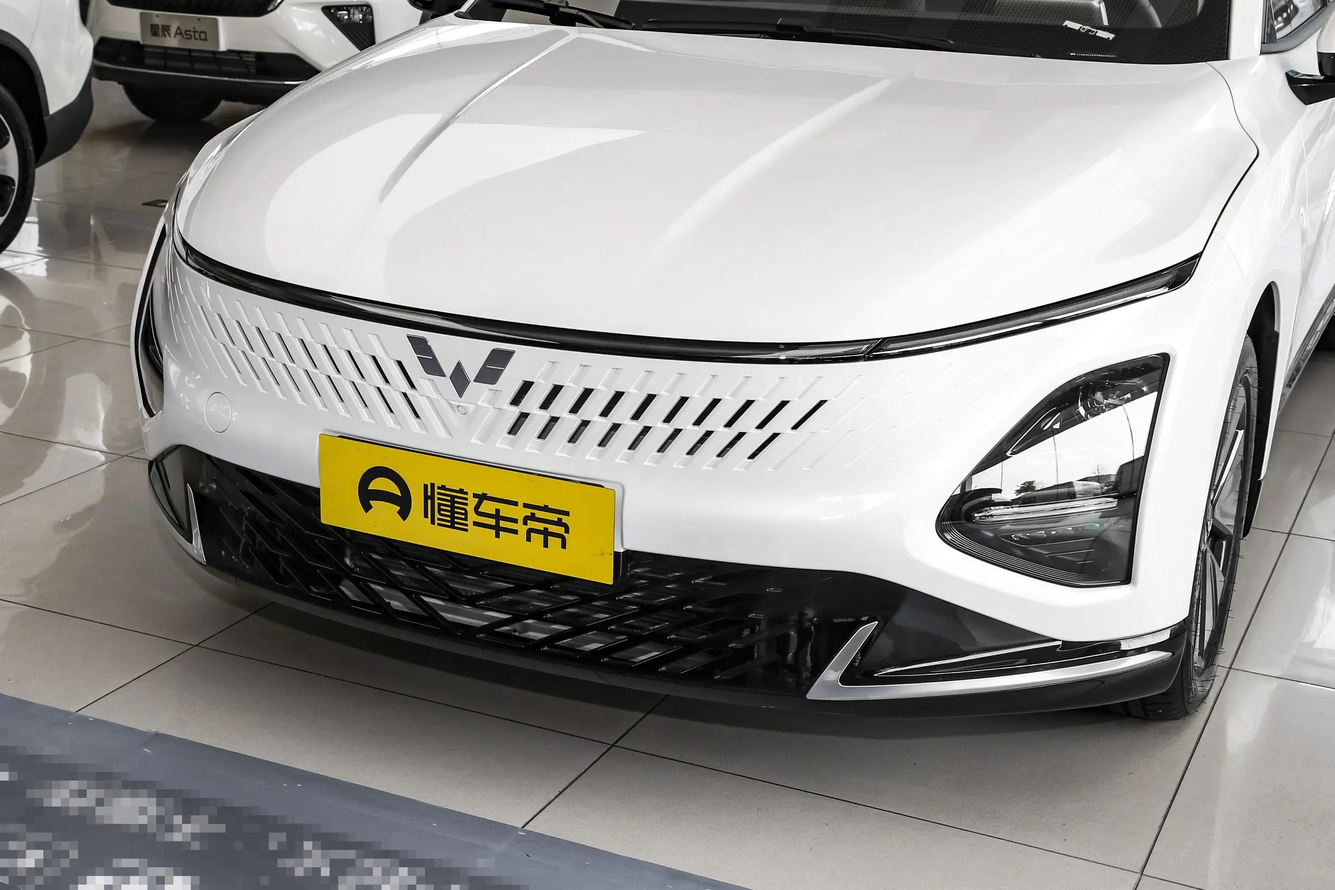SGMW: (406, 334, 515, 398)
